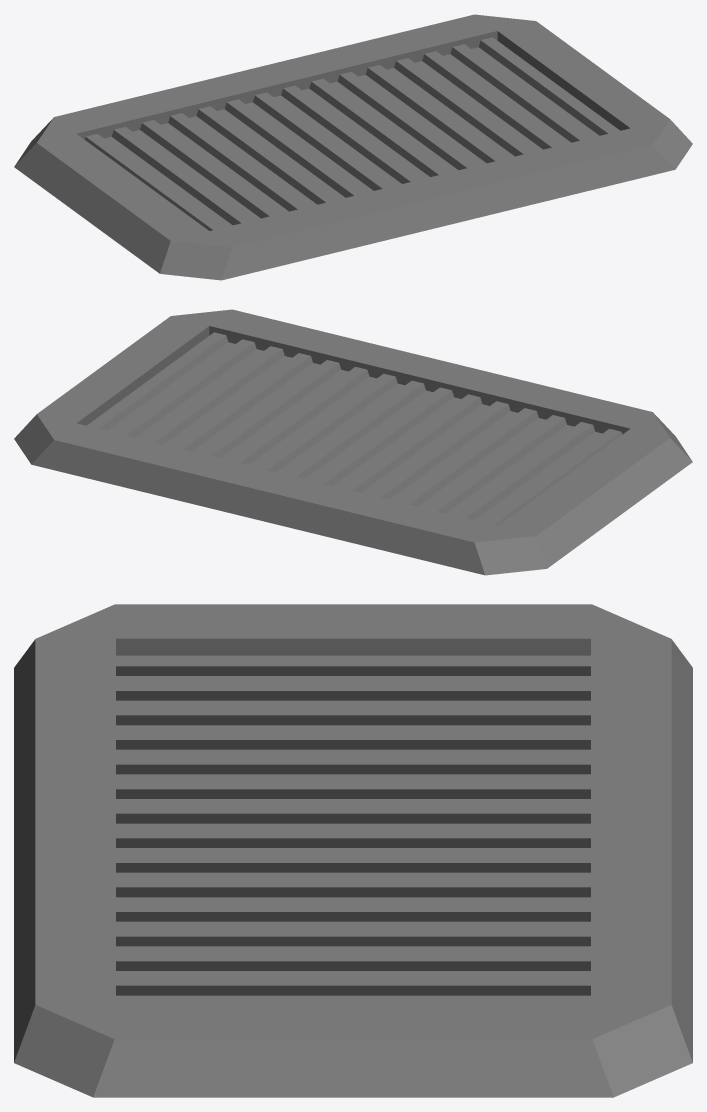
Rendered from q-scifi-mod-prop-vent-small.glb.
The picture shows the model from 3 angles, top to bottom: view 1: azimuth 30°, elevation 25°; view 2: azimuth 150°, elevation 25°; view 3: azimuth 270°, elevation 25°; orthographic projection. The views are drawn at different scales.
Parts seen in each view (by area): view 1: Prop_Vent_Small; view 2: Prop_Vent_Small; view 3: Prop_Vent_Small.
Boxes of the visible parts, box(x1,y1,x2,y2) form: Prop_Vent_Small: box(14, 14, 692, 280); Prop_Vent_Small: box(14, 309, 692, 575); Prop_Vent_Small: box(14, 604, 692, 1097).
Size of the model in its own units: 1 by 0.0438 by 0.6183.
3 materials, 2 textured.
